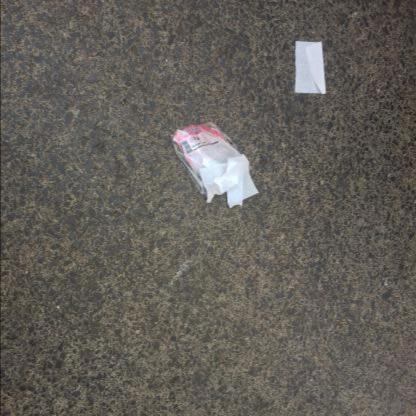Paper: (206, 154, 258, 208), (295, 41, 326, 95)
Plastic bag - wrapper: (170, 122, 242, 198)
